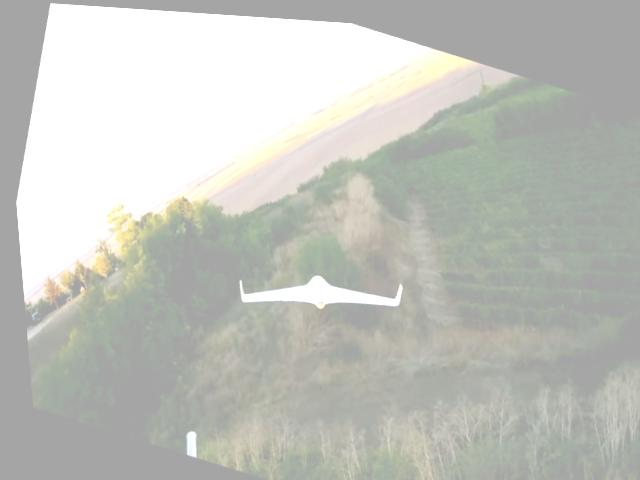plane: (227, 232, 401, 345)
